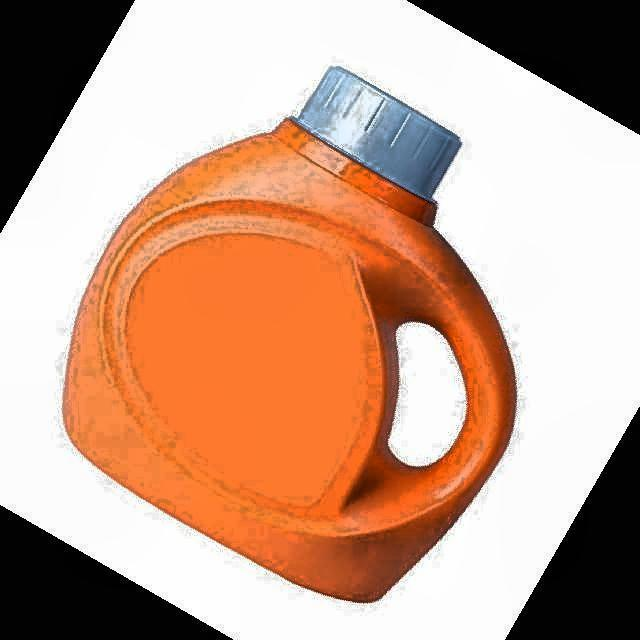plastic: (64, 68, 515, 601)
